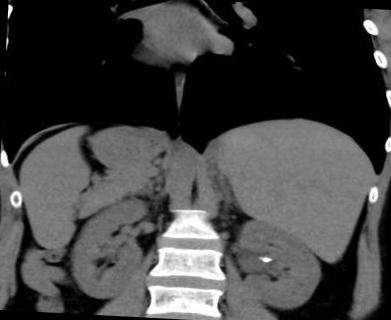Tas_Var: (258, 256, 272, 264)
